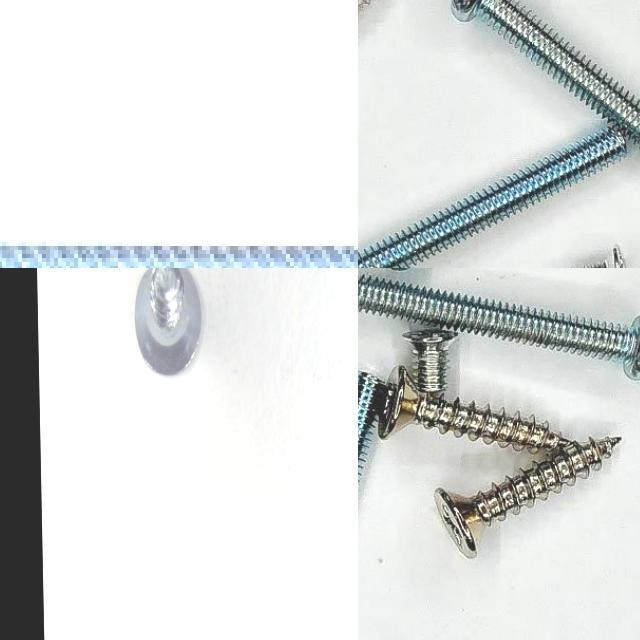Screw: (358, 127, 627, 268), (358, 274, 640, 379), (452, 0, 640, 148), (435, 439, 623, 559), (379, 366, 573, 453), (135, 268, 201, 373), (403, 328, 458, 398)
